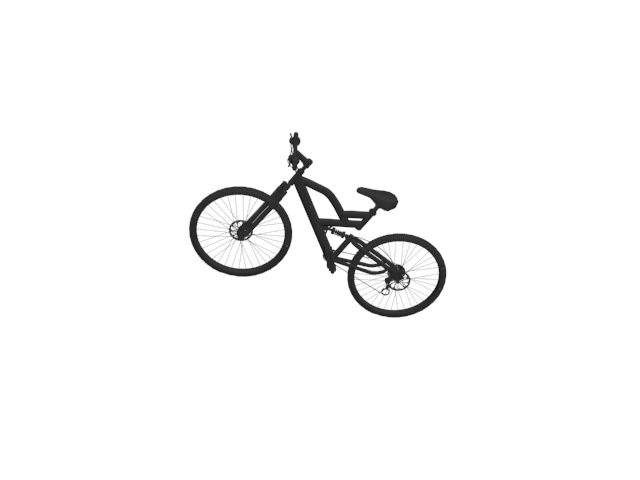bike: (185, 129, 448, 320)
